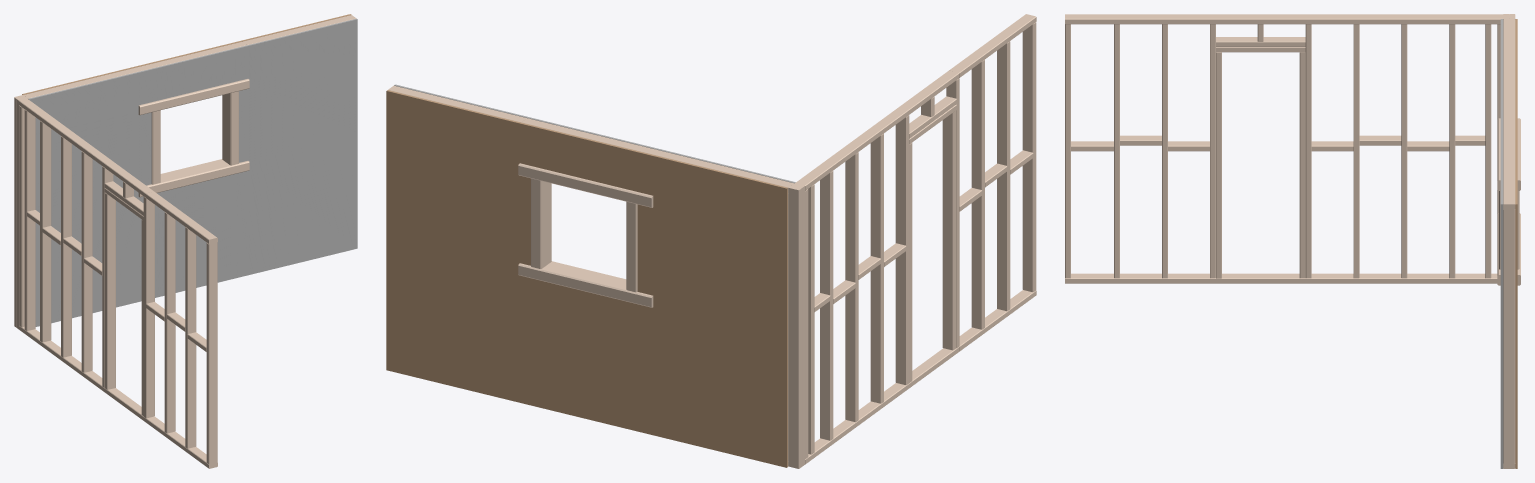
File: Workshop_Set_Window.fbx
3 views of the same model, side by side, from view 1: azimuth 30°, elevation 25°; view 2: azimuth 150°, elevation 25°; view 3: azimuth 270°, elevation 25° (orthographic). The views are drawn at different scales.
Parts seen in each view (by area): view 1: drywall_panel, stud_frame, OSB_Panel; view 2: OSB_Panel, stud_frame, drywall_panel; view 3: stud_frame, drywall_panel, OSB_Panel.
Part boxes in pixels (x1,y1,x2,y2): drywall_panel: (28, 18, 357, 326); stud_frame: (14, 15, 356, 468); OSB_Panel: (22, 14, 351, 94); OSB_Panel: (386, 90, 787, 467); stud_frame: (388, 14, 1036, 468); drywall_panel: (394, 84, 795, 183); stud_frame: (1065, 14, 1520, 468); drywall_panel: (1500, 19, 1503, 468); OSB_Panel: (1515, 19, 1517, 468).
Size of the model in its own units: 376 by 244 by 381.
